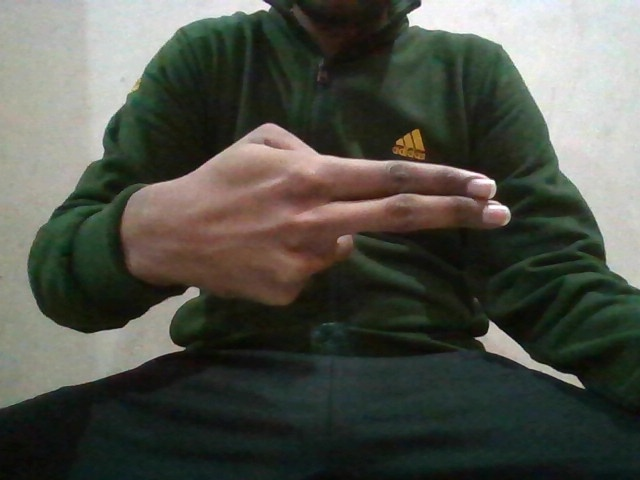H: (134, 123, 512, 290)
